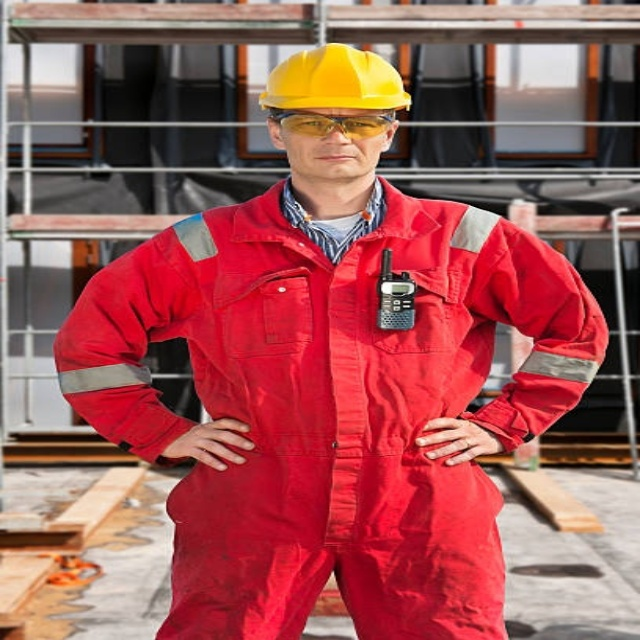Gafas: (271, 110, 396, 140)
Sin_guantes: (161, 415, 257, 471), (413, 415, 499, 466)
Sin_mascara: (307, 151, 365, 175)
